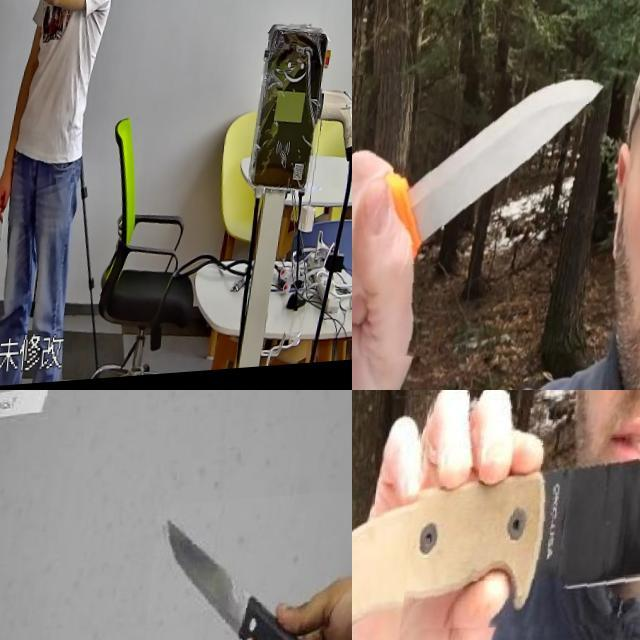-: (352, 64, 612, 370), (411, 390, 640, 640), (146, 496, 352, 640)
gun-knife-thesis - v11 Yolov5 augmented: (0, 0, 27, 40)
